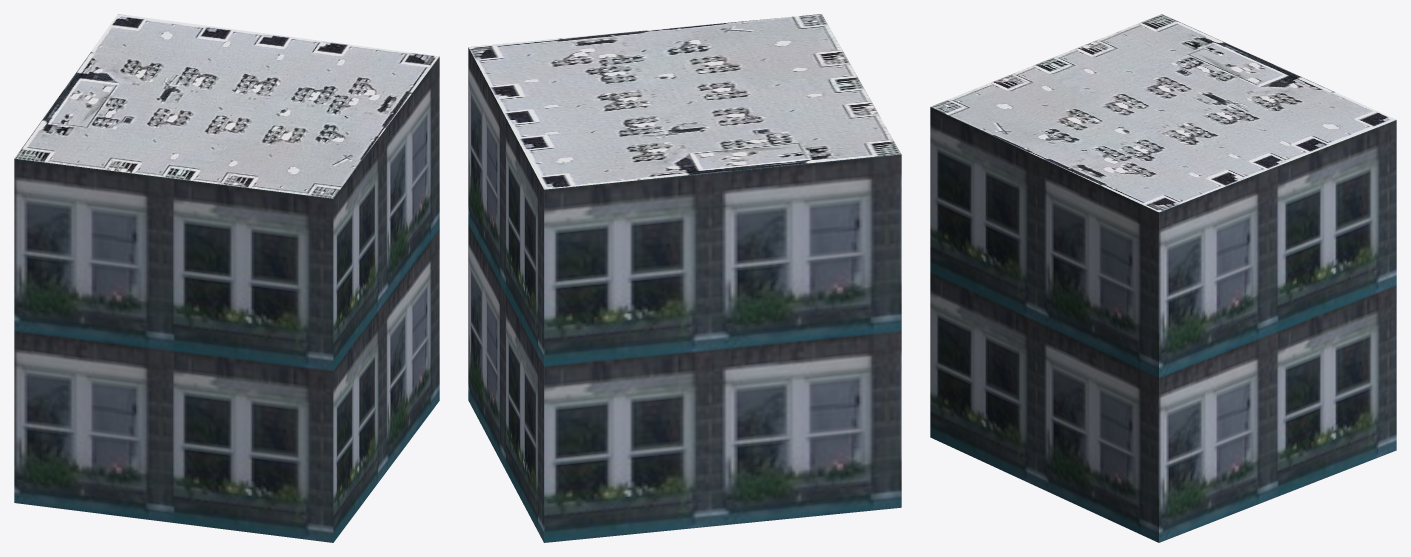
Rendered from ResTex__4142.fbx.
The picture shows the model from 3 angles, left to right: view 1: azimuth 30°, elevation 25°; view 2: azimuth 150°, elevation 25°; view 3: azimuth 270°, elevation 25°; orthographic projection. The views are drawn at different scales.
Parts seen in each view (by area): view 1: CityEngineMaterial_11_m, CityEngineMaterial_m; view 2: CityEngineMaterial_11_m, CityEngineMaterial_m; view 3: CityEngineMaterial_11_m, CityEngineMaterial_m.
Part boxes in pixels (box(x1,y1,x2,y2)): CityEngineMaterial_11_m: box(14, 57, 439, 542); CityEngineMaterial_m: box(14, 14, 439, 198); CityEngineMaterial_11_m: box(468, 47, 901, 542); CityEngineMaterial_m: box(468, 14, 900, 189); CityEngineMaterial_11_m: box(930, 107, 1396, 542); CityEngineMaterial_m: box(930, 14, 1396, 212).
Size of the model in its own units: 7.73 by 6 by 7.68.
2 materials, 2 textured.
